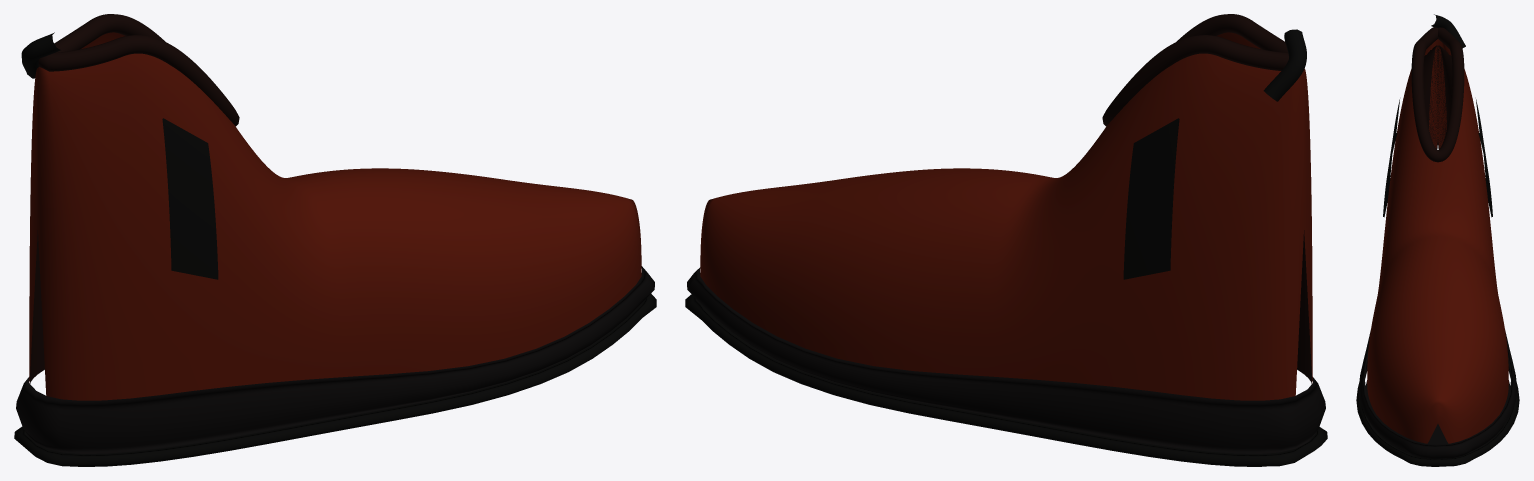
Rendered from chelsea-tan.glb.
3 views of the same model, side by side, from view 1: azimuth 30°, elevation 25°; view 2: azimuth 150°, elevation 25°; view 3: azimuth 270°, elevation 25° (orthographic). The views are drawn at different scales.
Parts seen in each view (by area): view 1: upper, midsole, outsole, elastic-lateral, collar, lining, pull-tab; view 2: upper, midsole, outsole, elastic-medial, collar, pull-tab, lining; view 3: upper, collar, midsole, lining, outsole, elastic-lateral, elastic-medial, pull-tab.
Boxes of the visible parts, left/top/right/bottom form: upper: left=29, top=32, right=641, bottom=400; midsole: left=16, top=266, right=654, bottom=453; outsole: left=14, top=293, right=656, bottom=466; elastic-lateral: left=162, top=118, right=218, bottom=279; collar: left=38, top=14, right=239, bottom=126; lining: left=30, top=230, right=44, bottom=383; pull-tab: left=21, top=32, right=60, bottom=78; upper: left=700, top=32, right=1312, bottom=400; midsole: left=687, top=267, right=1325, bottom=453; outsole: left=685, top=294, right=1327, bottom=466; elastic-medial: left=1123, top=118, right=1179, bottom=279; collar: left=1102, top=14, right=1288, bottom=126; pull-tab: left=1263, top=29, right=1306, bottom=101; lining: left=1297, top=230, right=1311, bottom=383; upper: left=1367, top=39, right=1508, bottom=443; collar: left=1411, top=27, right=1464, bottom=162; midsole: left=1358, top=331, right=1517, bottom=459; lining: left=1423, top=45, right=1452, bottom=149; outsole: left=1356, top=360, right=1519, bottom=466; elastic-lateral: left=1383, top=99, right=1399, bottom=217; elastic-medial: left=1476, top=99, right=1492, bottom=217; pull-tab: left=1431, top=14, right=1465, bottom=48.
Bounding box in the file's own units: 0.298 × 0.1939 × 0.1046.
